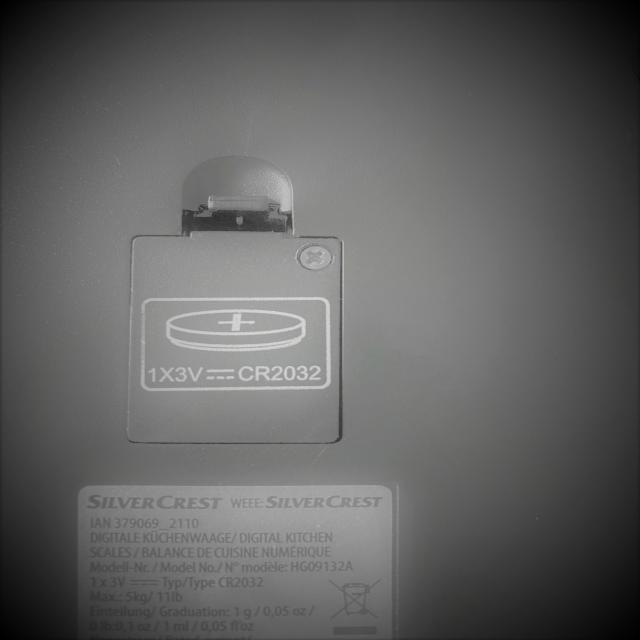PhillipsScrewHead: (298, 245, 332, 270)
